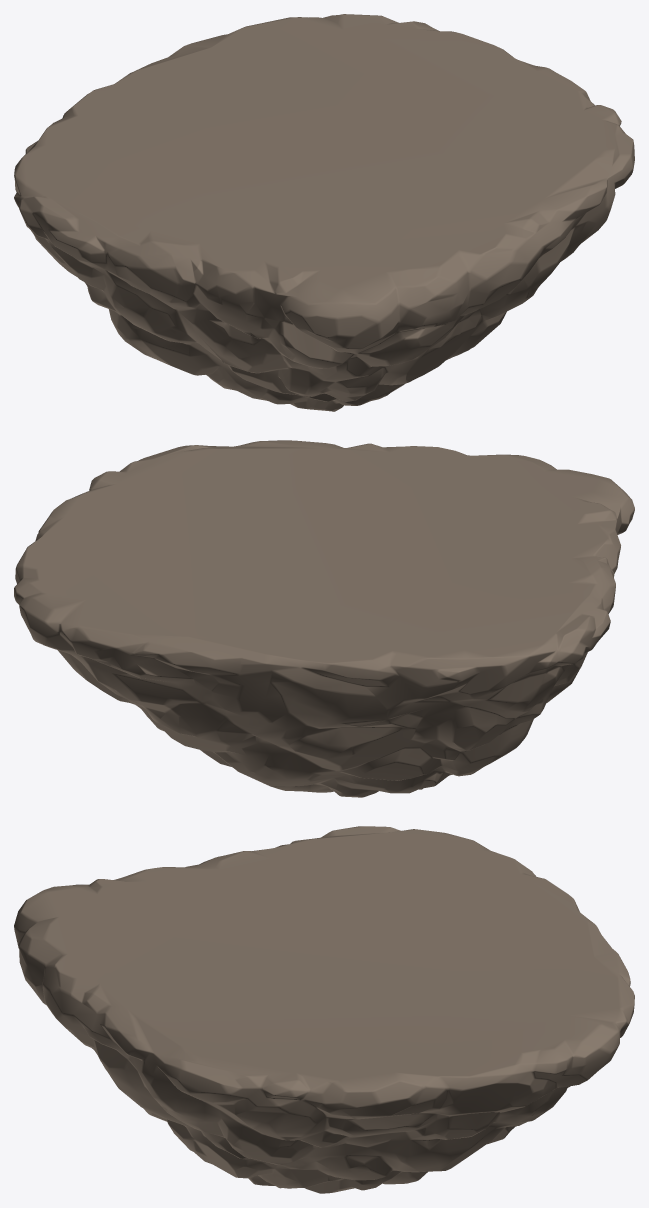
The model's file is IlhaM1.fbx.
3 renders of one model, top to bottom at view 1: azimuth 30°, elevation 25°; view 2: azimuth 150°, elevation 25°; view 3: azimuth 270°, elevation 25°, orthographic.
Visible parts, largest first — view 1: IlhaM1; view 2: IlhaM1; view 3: IlhaM1.
Part boxes in pixels (x1,y1,x2,y2): IlhaM1: (14, 14, 634, 411); IlhaM1: (14, 440, 634, 797); IlhaM1: (14, 826, 634, 1193).
Size of the model in its own units: 3709 by 1530 by 3677.
